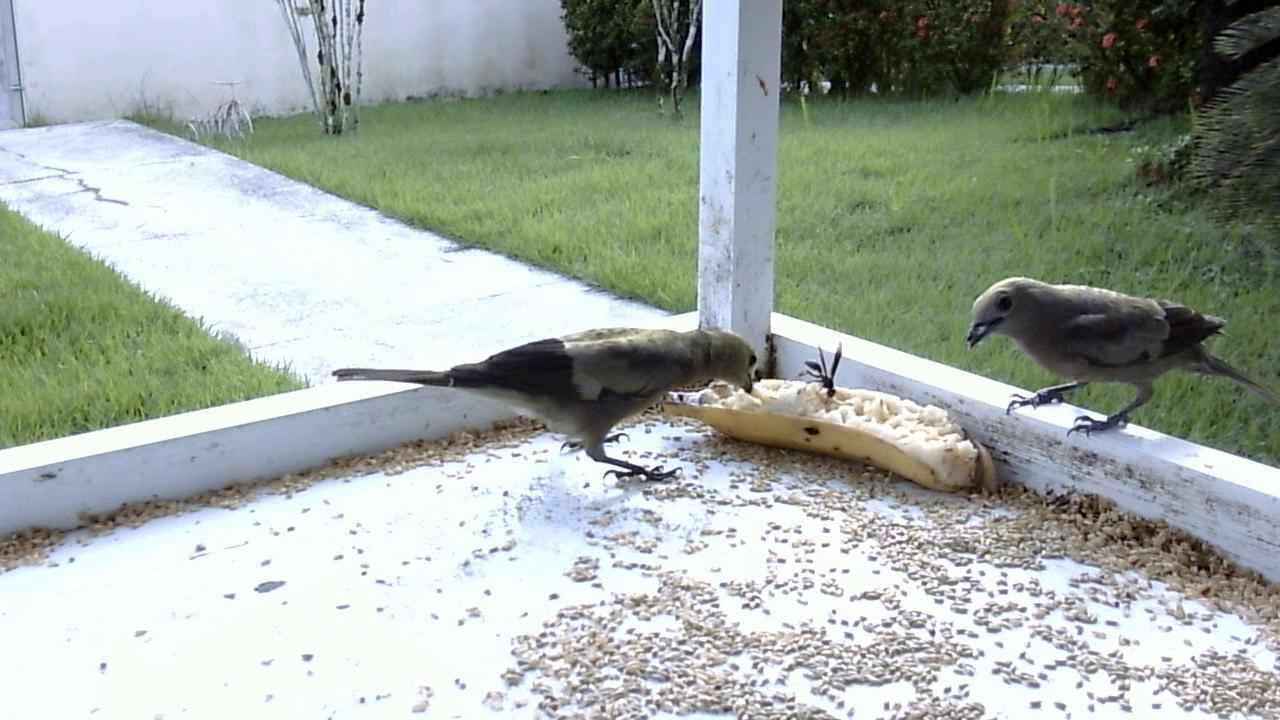sanhaco_do_coqueiro: (327, 316, 751, 496), (956, 270, 1268, 449)
